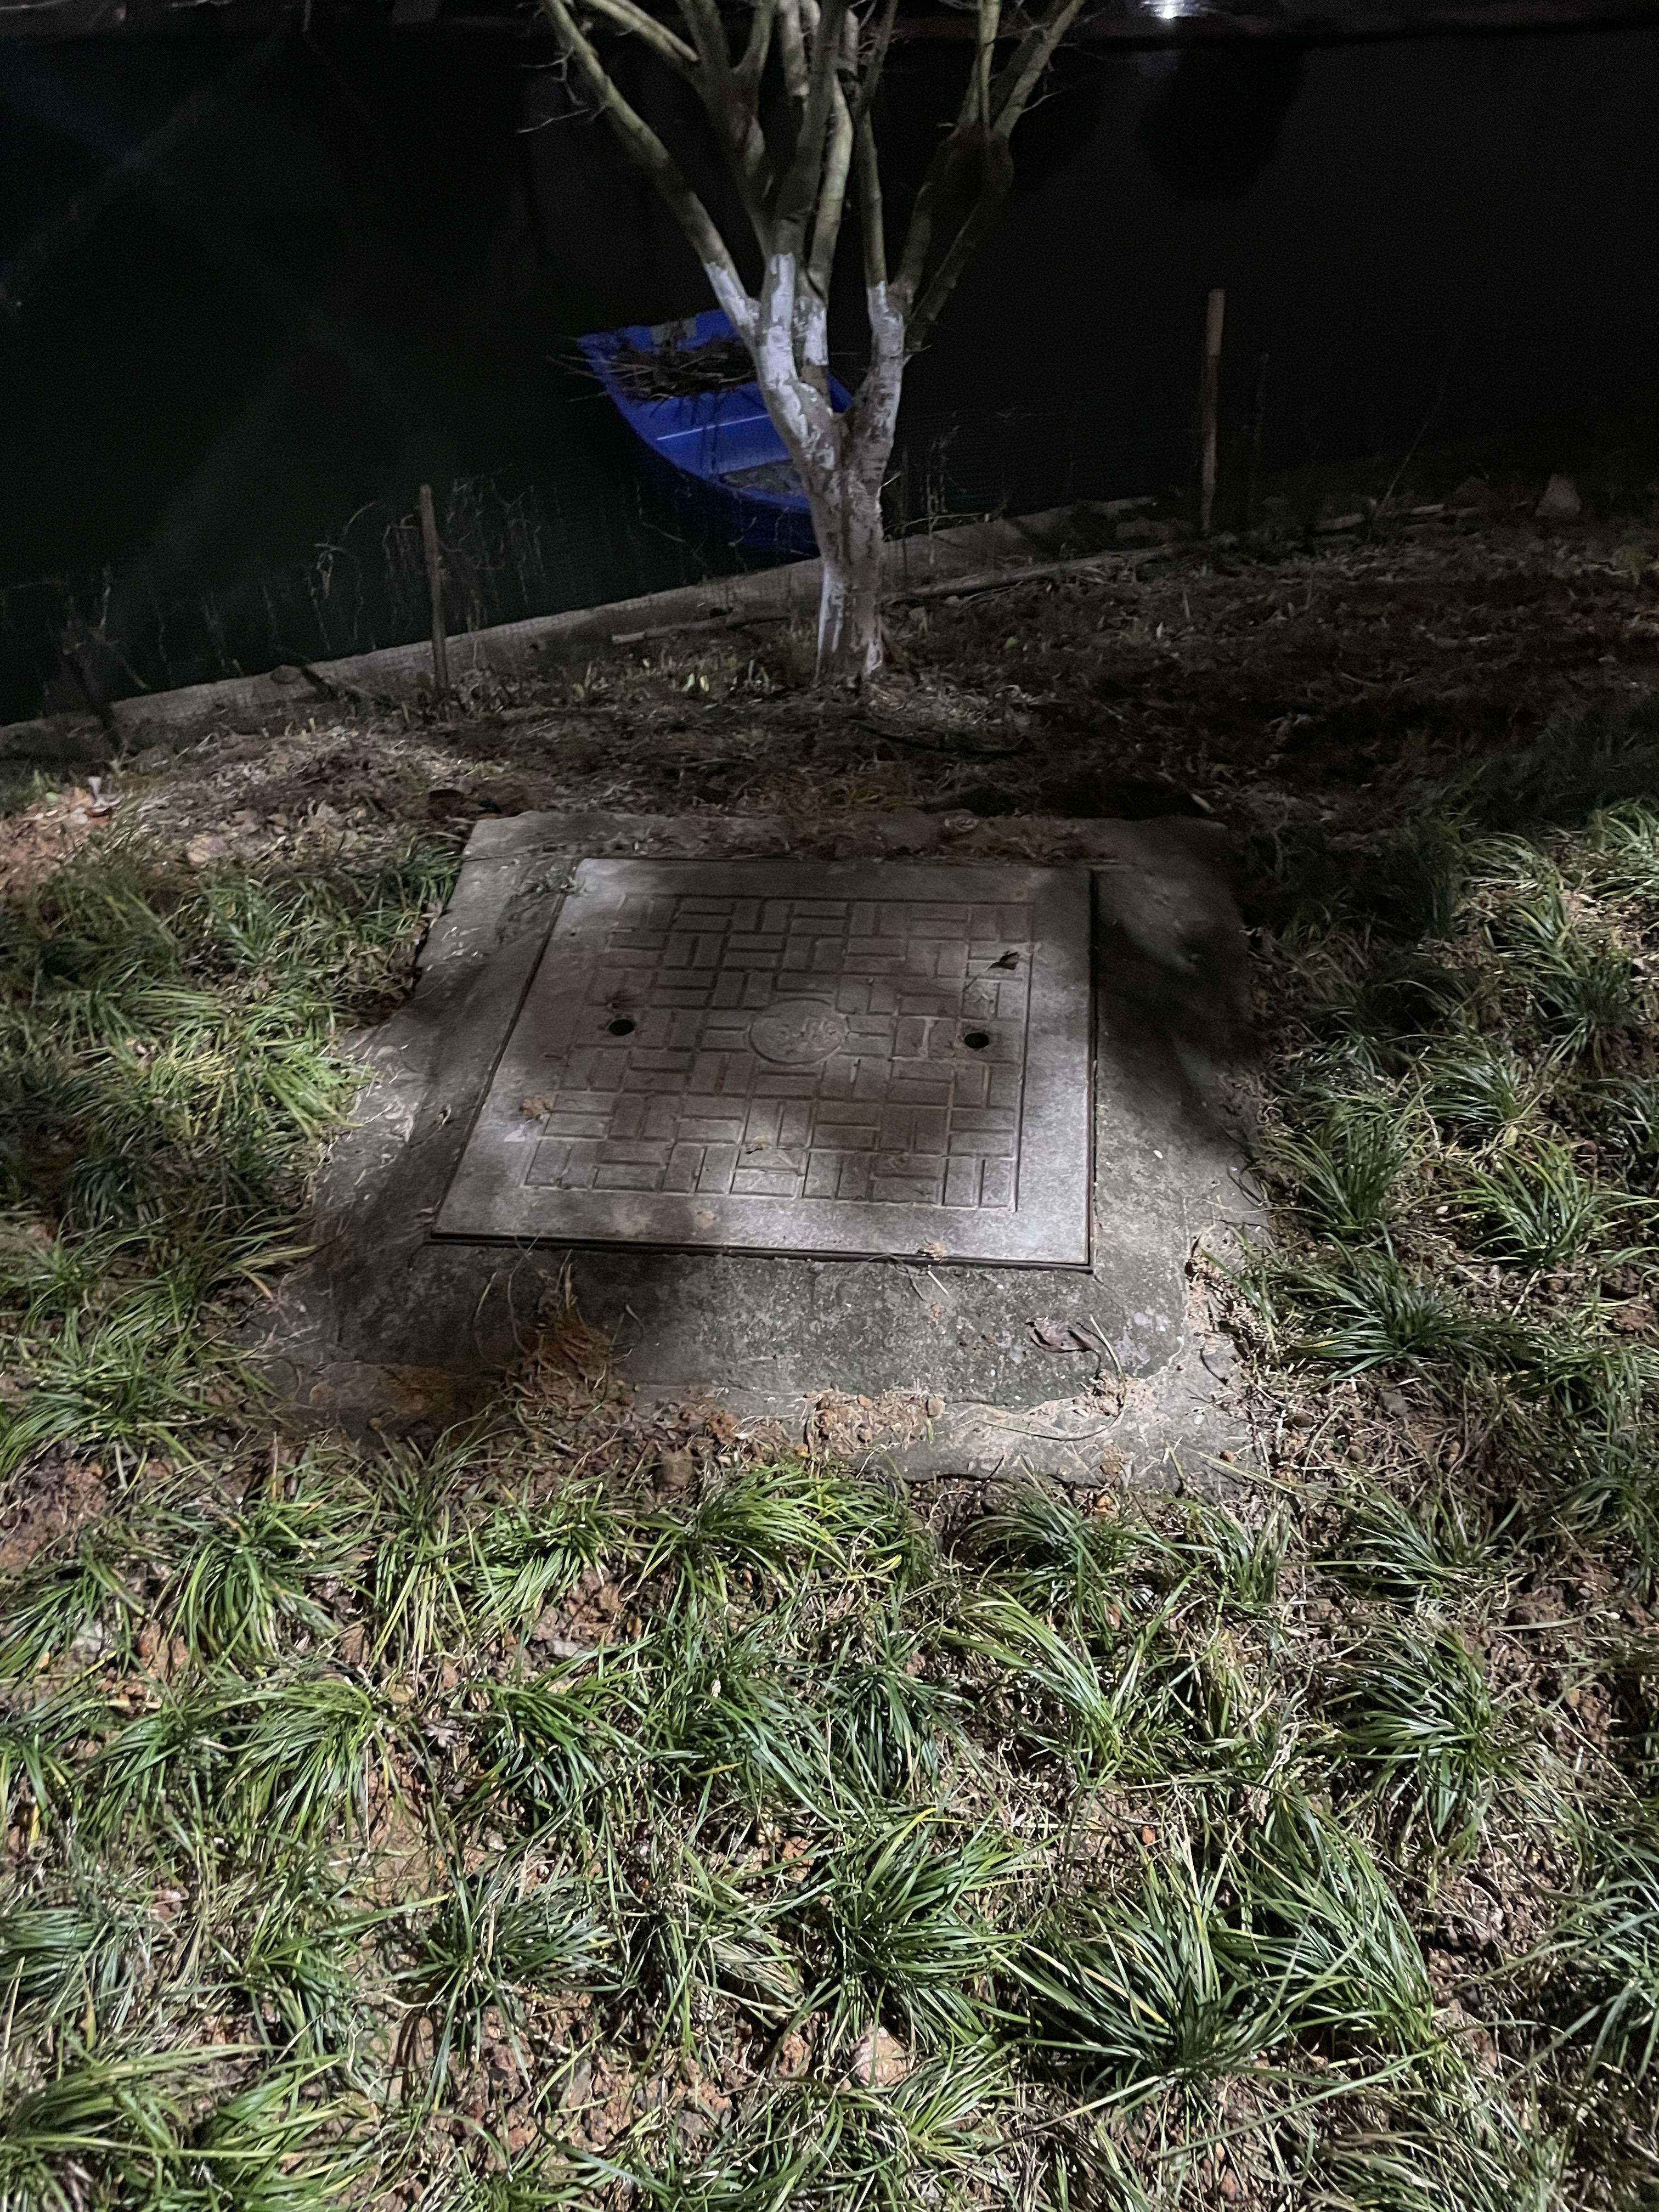wellcover: (232, 798, 1272, 1493)
